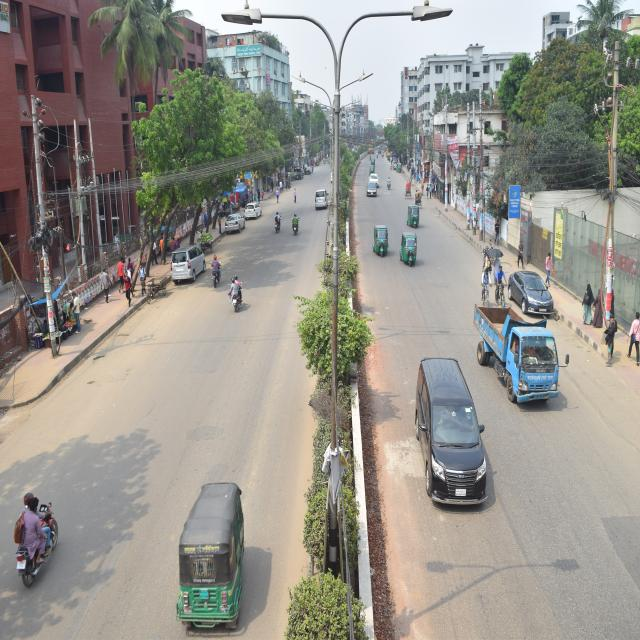car: (411, 358, 495, 514), (506, 264, 569, 323), (224, 209, 249, 233), (242, 196, 262, 220), (366, 177, 377, 201), (366, 169, 381, 185)
microbus: (177, 240, 204, 283)
motorbike: (14, 494, 65, 577), (232, 274, 244, 313), (211, 257, 221, 293), (292, 215, 301, 239), (274, 213, 283, 234)
pickup-van: (466, 298, 582, 400)
